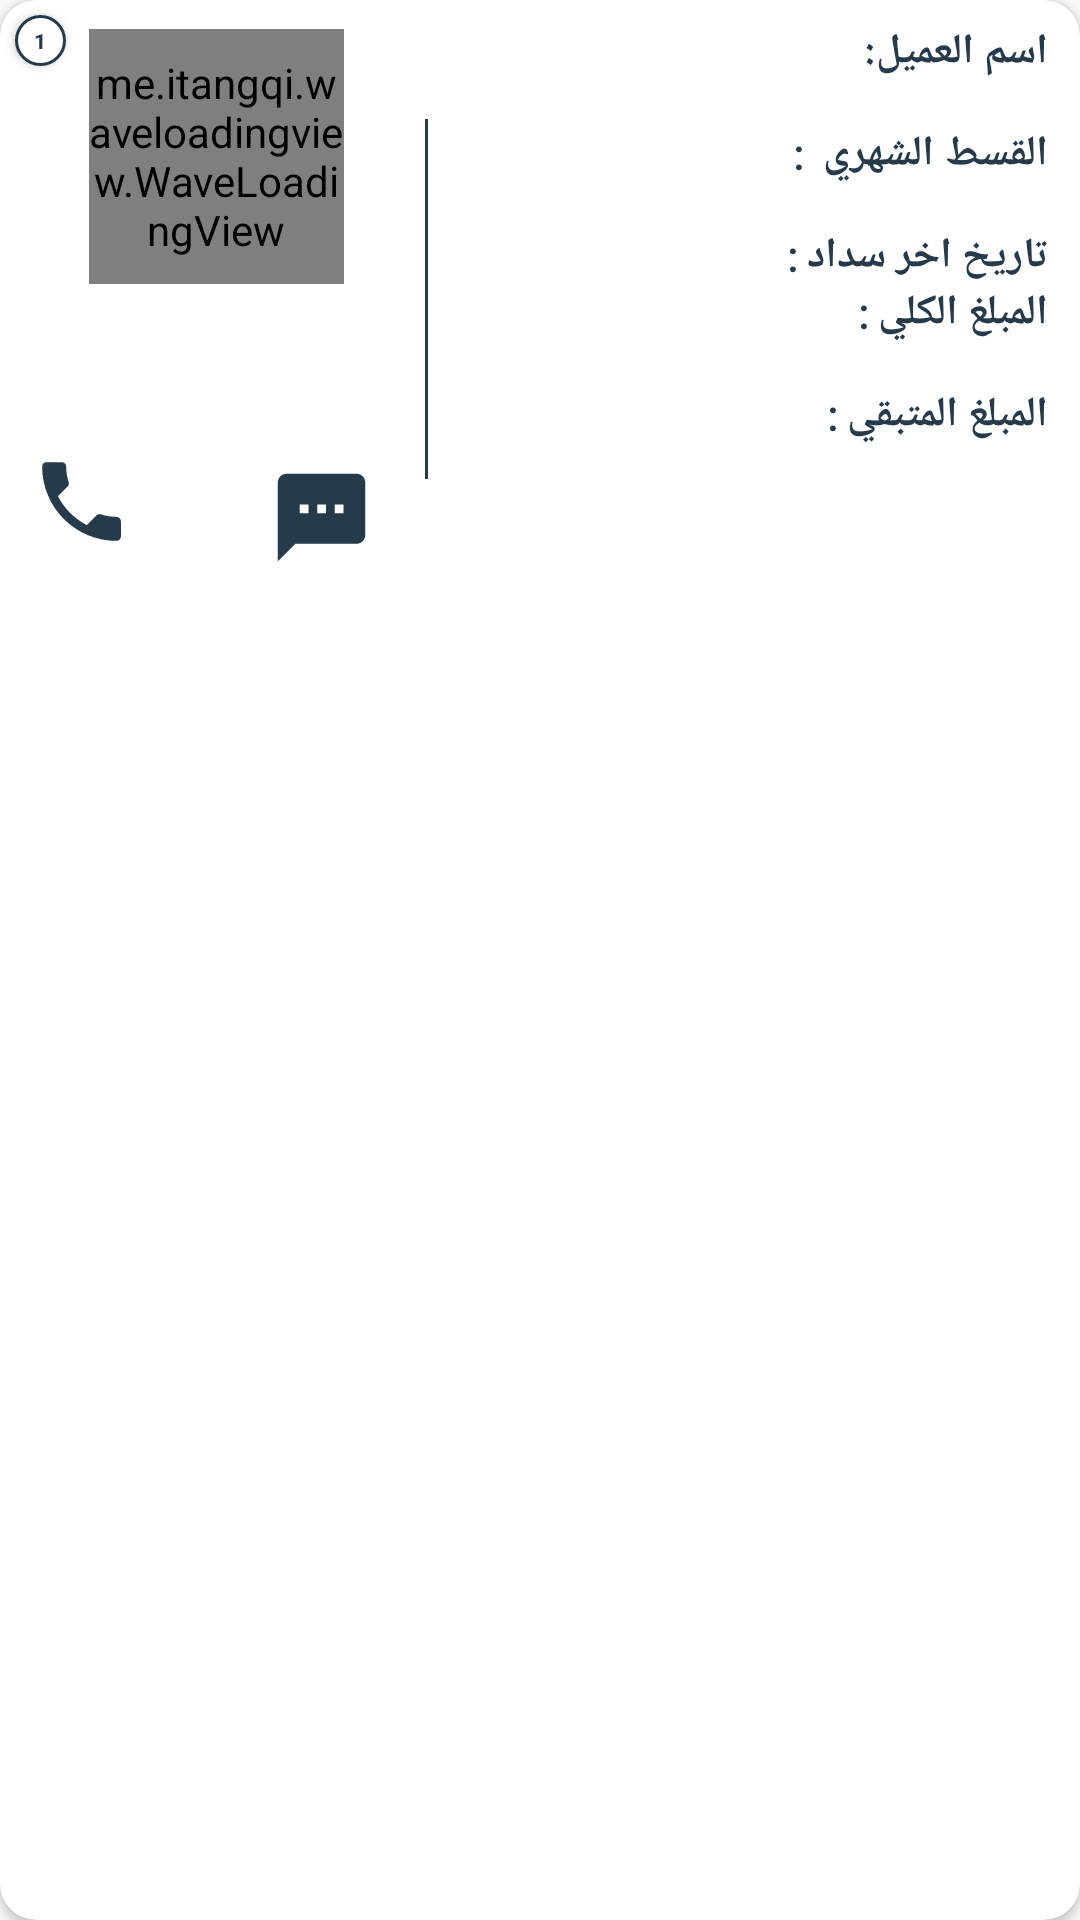

Icons on this 1080x1920 Android screen, each with the point to tap as (x,y):
phone: (81,501)
textsms: (321,517)
